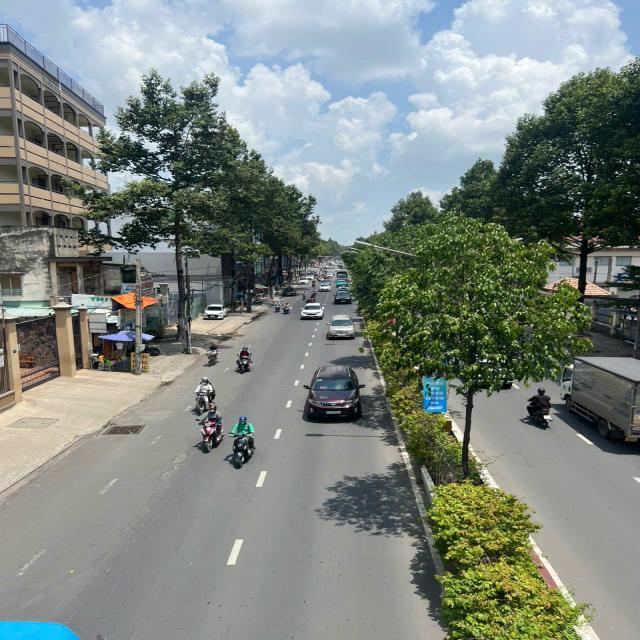car: (300, 360, 368, 422), (323, 312, 358, 343), (299, 298, 324, 320), (331, 286, 354, 306), (316, 281, 332, 293)
motobyte: (225, 413, 262, 470), (193, 403, 225, 453), (189, 375, 217, 416), (235, 342, 256, 375), (282, 301, 293, 317), (272, 297, 282, 314)
